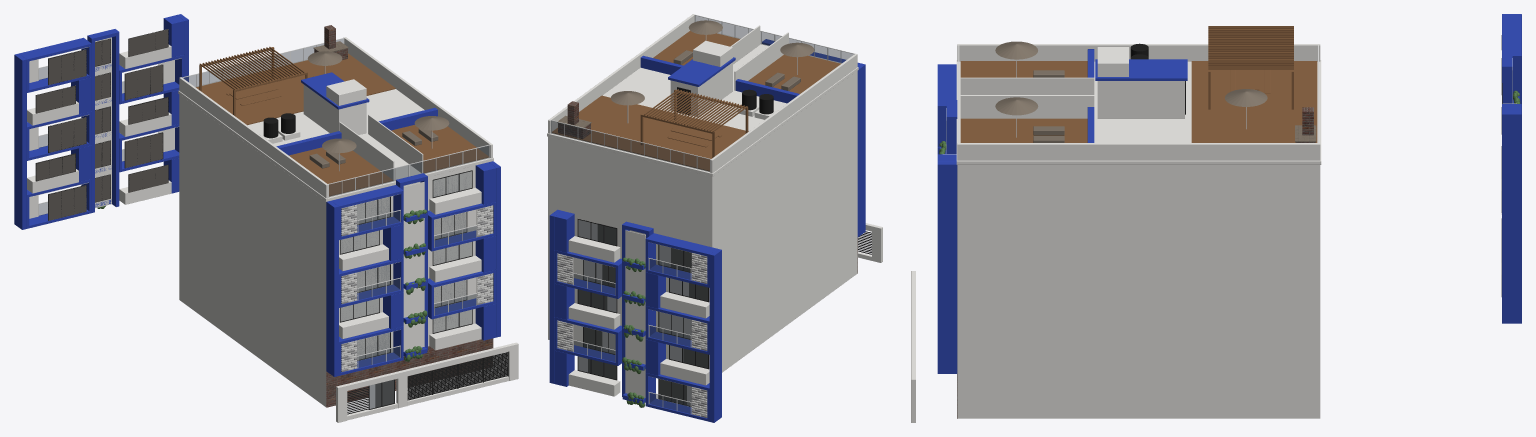
The model's file is edificio-v4.glb.
3 renders of one model, left to right at view 1: azimuth 30°, elevation 25°; view 2: azimuth 150°, elevation 25°; view 3: azimuth 270°, elevation 25°, orthographic. The views are drawn at different scales.
Visible parts, largest first — view 1: cuerpo, deck_comun, pilastra_izq (×2), parapeto_azotea, franja_fondo (×2), zocalo, parapeto_lateral, deck, parapeto_lateral.001, deck.001, franja_der (×2), baranda.005 (+52 smaller); view 2: cuerpo, deck_comun, parapeto_azotea, pilastra_izq (×2), franja_fondo, parapeto_lateral, baranda.006, parapeto_lateral.001, deck, caja_escalera, baranda.005, deck.001 (+57 smaller); view 3: cuerpo, pilastra_der (×2), deck_comun, parapeto_lateral.001, parapeto_azotea, parapeto_lateral, caja_escalera, deck.001, muro_terraza.001, muro_terraza, deck, marco_sup.004 (×2) (+6 smaller).
Part boxes in pixels (x1,y1,x2,y2): cuerpo: [179, 95, 476, 406]; deck_comun: [196, 53, 395, 125]; pilastra_izq (×2): [14, 53, 338, 376]; parapeto_azotea: [178, 59, 493, 201]; franja_fondo (×2): [95, 37, 424, 351]; zocalo: [326, 338, 493, 407]; parapeto_lateral: [179, 77, 328, 198]; deck: [289, 147, 393, 196]; parapeto_lateral.001: [343, 37, 492, 158]; deck.001: [391, 124, 488, 173]; franja_der (×2): [112, 32, 427, 350]; baranda.005: [329, 146, 488, 196]; cuerpo: [548, 71, 857, 372]; deck_comun: [552, 95, 748, 171]; parapeto_azotea: [547, 33, 858, 176]; pilastra_izq (×2): [709, 63, 865, 422]; franja_fondo: [625, 230, 645, 402]; parapeto_lateral: [710, 53, 857, 173]; baranda.006: [551, 121, 709, 171]; parapeto_lateral.001: [548, 14, 694, 133]; deck: [748, 54, 840, 93]; caja_escalera: [670, 62, 732, 116]; baranda.005: [695, 16, 853, 63]; deck.001: [653, 30, 739, 65]; cuerpo: [957, 165, 1320, 418]; pilastra_der (×2): [937, 111, 1521, 373]; deck_comun: [1191, 61, 1317, 142]; parapeto_lateral.001: [957, 143, 1320, 160]; parapeto_azotea: [956, 60, 1321, 164]; parapeto_lateral: [957, 44, 1320, 61]; caja_escalera: [1097, 81, 1184, 118]; deck.001: [960, 118, 1087, 142]; muro_terraza.001: [960, 95, 1094, 118]; muro_terraza: [960, 77, 1094, 94]; deck: [960, 61, 1087, 77]; marco_sup.004 (×2): [937, 16, 1521, 108].
Bounding box in the file's own units: 22.2 × 20.95 × 37.
Materials: 16 (2 with a texture image).
